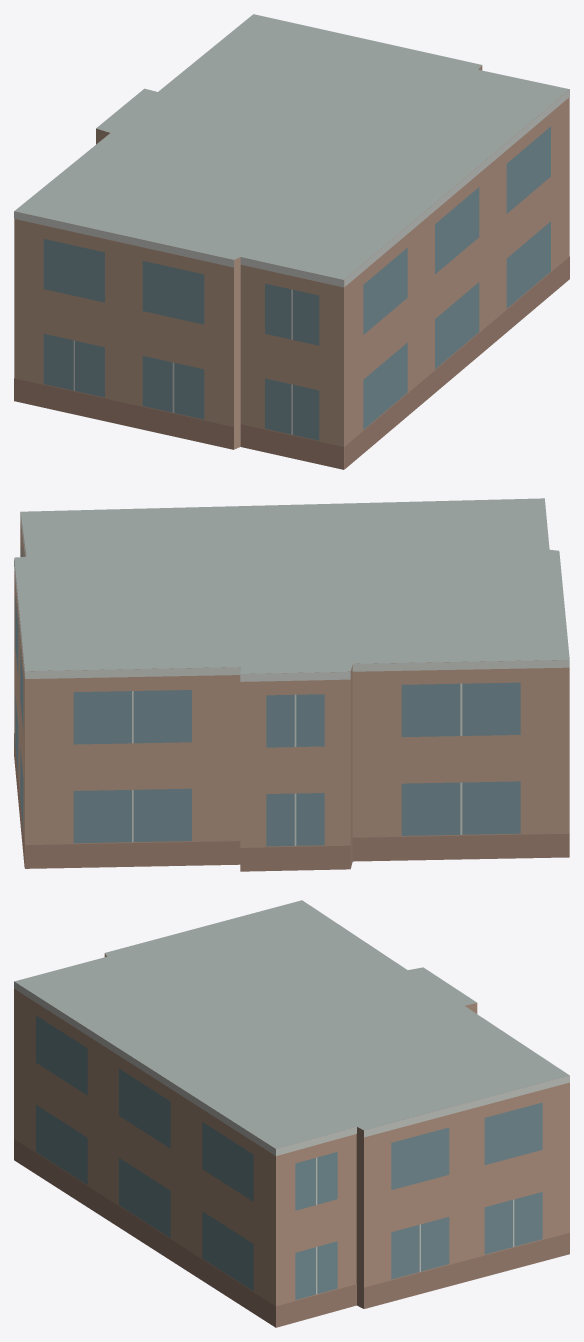
Rendered from survey-upis-32625322.glb.
3 renders of one model, top to bottom at view 1: azimuth 30°, elevation 25°; view 2: azimuth 150°, elevation 25°; view 3: azimuth 270°, elevation 25°, orthographic. The views are drawn at different scales.
Parts seen in each view (by area): view 1: survey-upis-32625322.tmp; view 2: survey-upis-32625322.tmp; view 3: survey-upis-32625322.tmp.
Part boxes in pixels (x1,y1,x2,y2): survey-upis-32625322.tmp: [14, 14, 569, 469]; survey-upis-32625322.tmp: [14, 498, 569, 871]; survey-upis-32625322.tmp: [14, 900, 569, 1327].
Size of the model in its own units: 18.23 by 6.1 by 17.2.
